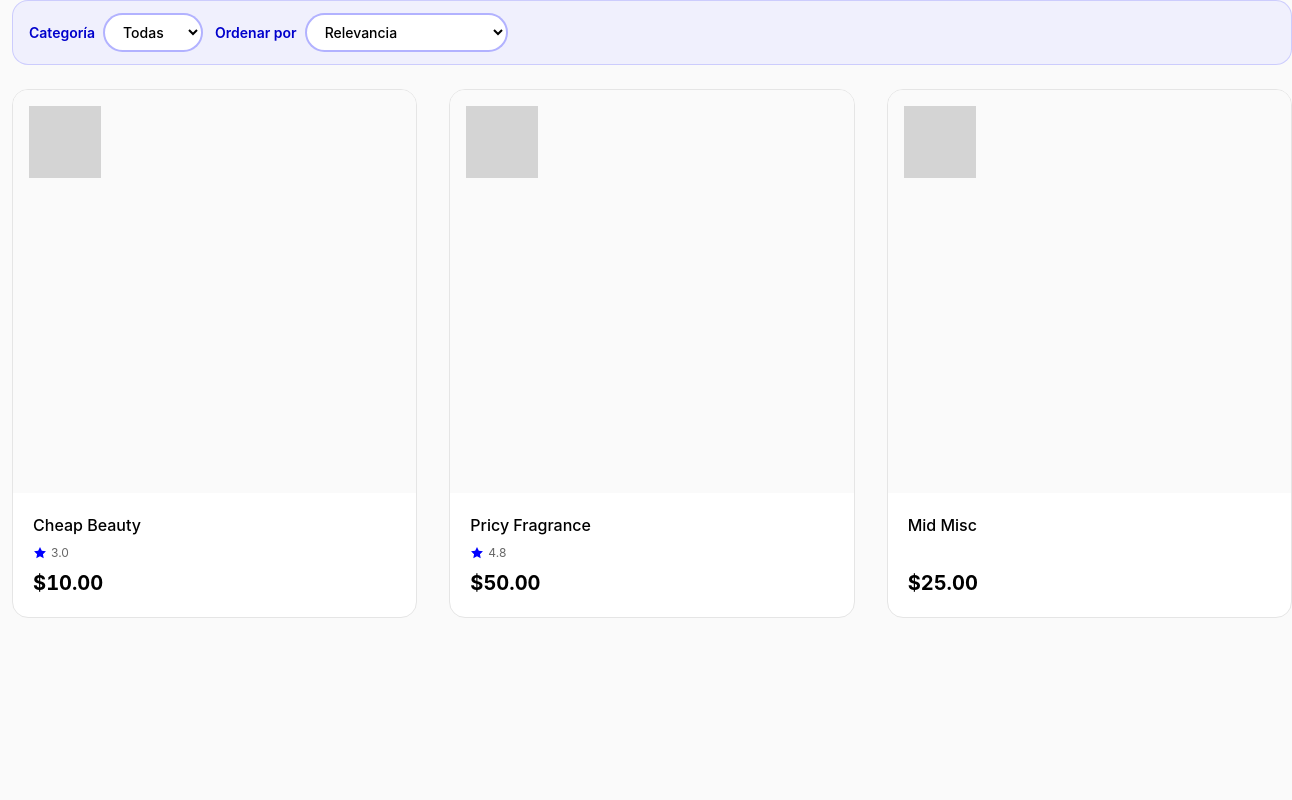
Test: ProductListingV2 › shows a no-match message when the chosen category has no products
Select "beauty" in the dropdown labelled "Categoría": [153, 32] box [103,13,203,52]
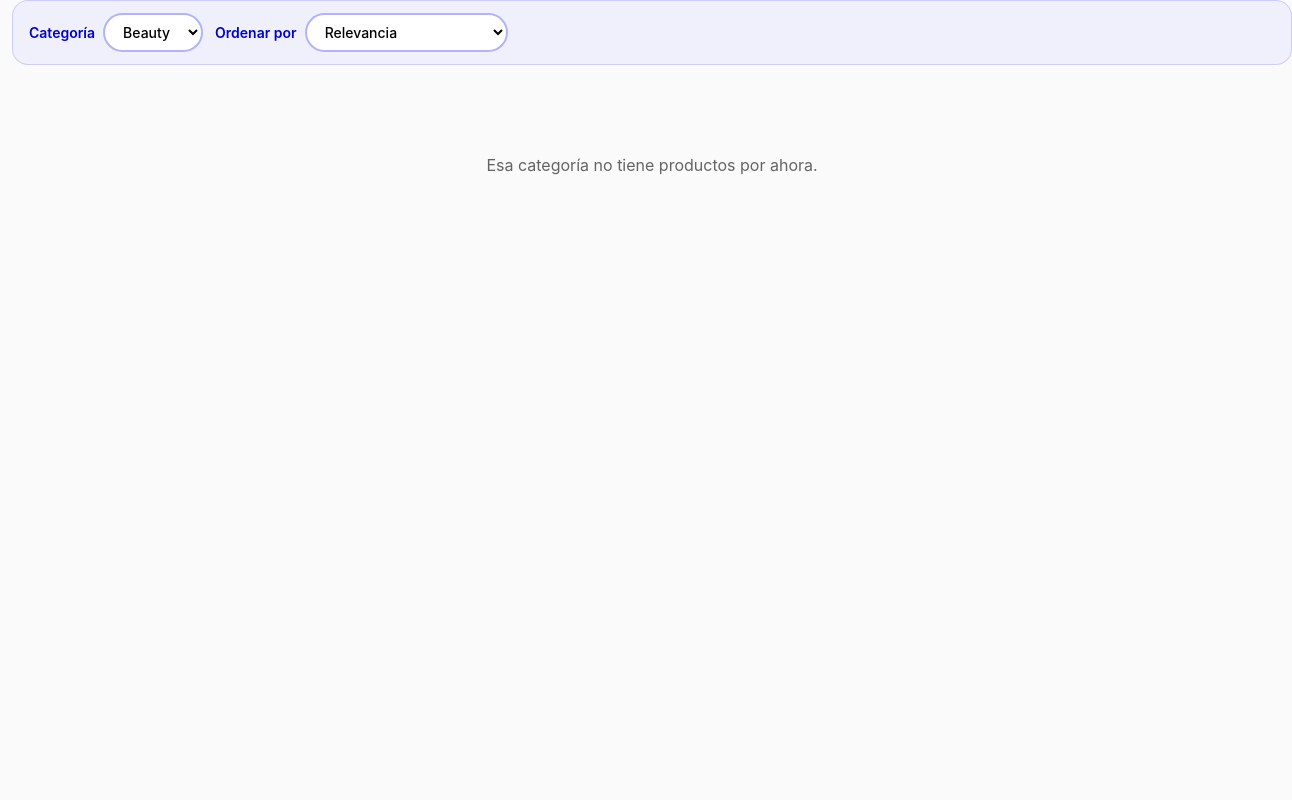
Result: the text "Esa categoría no tiene productos por ahora." is shown at [486,155,818,175]
